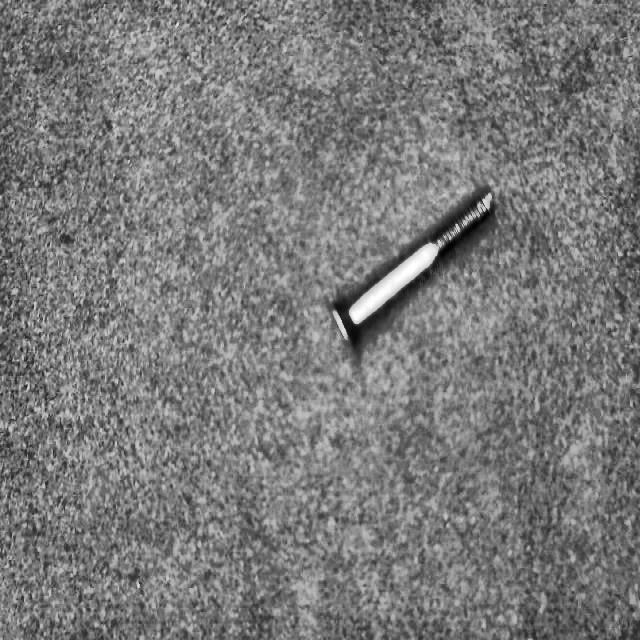Flat head socket screw: (329, 184, 497, 349)
